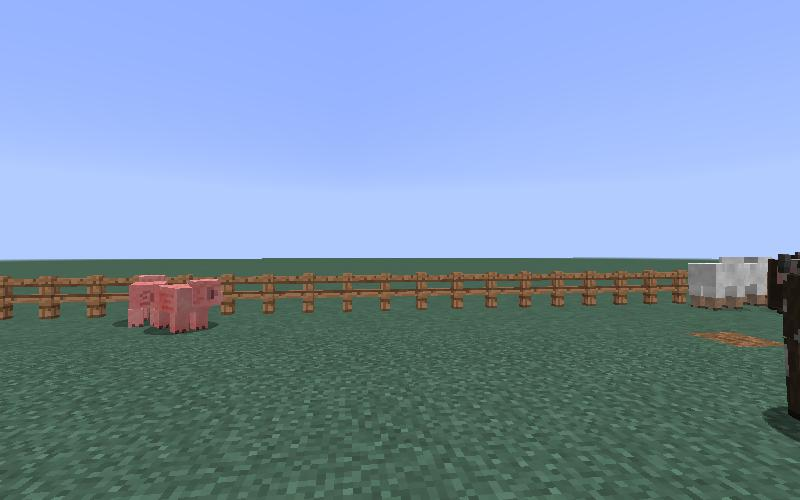pig: (147, 276, 220, 336)
sheep: (685, 259, 754, 318)
